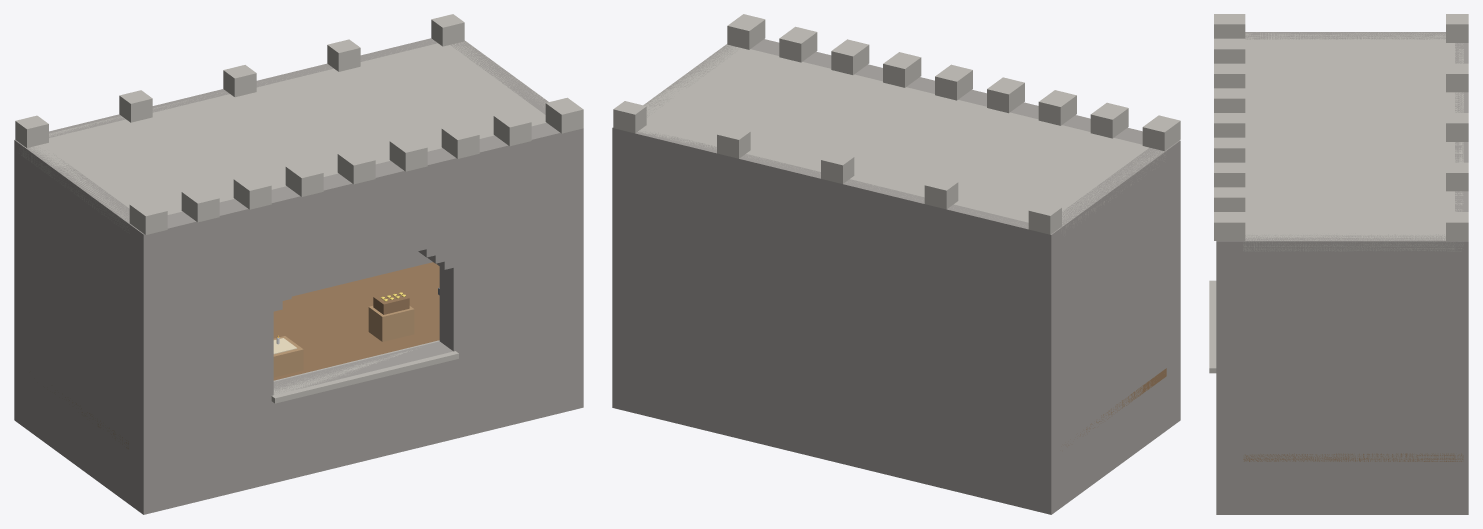
File: Keep.fbx
3 views of the same model, side by side, from view 1: azimuth 30°, elevation 25°; view 2: azimuth 150°, elevation 25°; view 3: azimuth 270°, elevation 25° (orthographic). The views are drawn at different scales.
Parts seen in each view (by area): view 1: Body; view 2: Body; view 3: Body.
Boxes of the visible parts, x1=… form: Body: x1=14, y1=14, x2=583, y2=514; Body: x1=612, y1=14, x2=1180, y2=514; Body: x1=1209, y1=14, x2=1468, y2=514.
Size of the model in its own units: 22 by 14.3 by 11.5.
